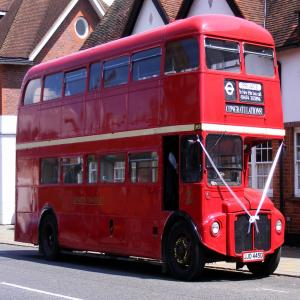Vehicle-registration-plate: (243, 252, 265, 264)
